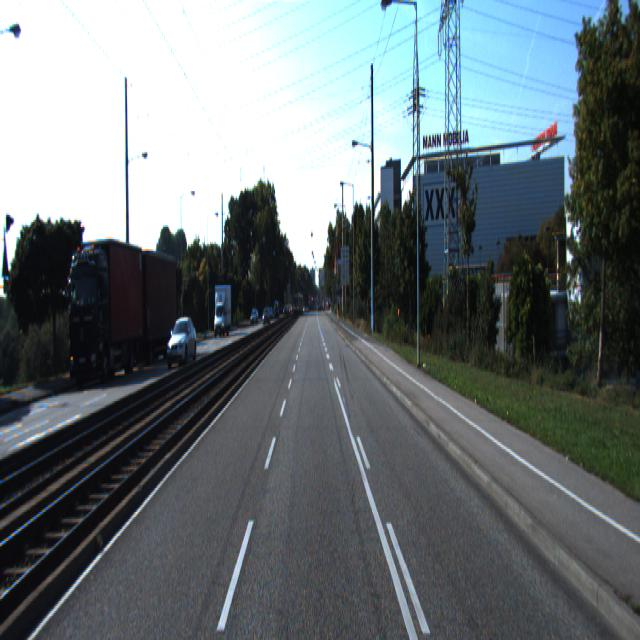Car: (65, 233, 145, 392), (124, 244, 178, 367), (166, 316, 199, 369), (212, 283, 232, 337)
